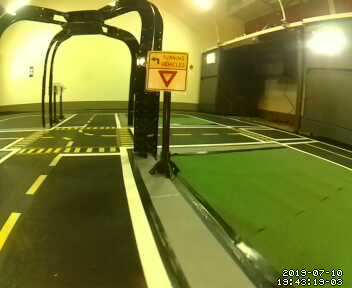Turn Yield: (143, 51, 189, 93)
